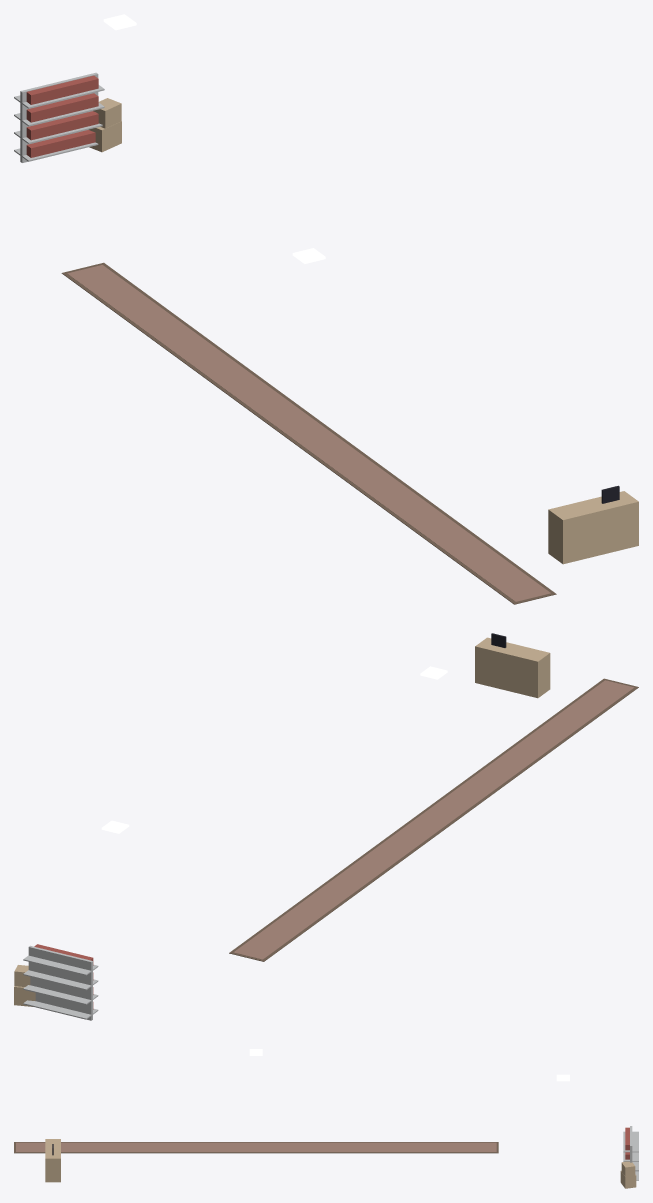
The model's file is fine-s0.glb.
The picture shows the model from 3 angles, top to bottom: view 1: azimuth 30°, elevation 25°; view 2: azimuth 150°, elevation 25°; view 3: azimuth 270°, elevation 25°; orthographic projection. The views are drawn at different scales.
Visible parts, largest first — view 1: soft-s0, shelving.000, shop-counter.000, cardboard-box.000; view 2: soft-s0, shelving.000, shop-counter.000, cardboard-box.000; view 3: soft-s0, shop-counter.000, shelving.000, cardboard-box.000.
Part boxes in pixels (box(x1,y1,x2,y2)): soft-s0: box(61, 262, 556, 604); shelving.000: box(14, 72, 104, 162); shop-counter.000: box(548, 485, 638, 564); cardboard-box.000: box(88, 98, 121, 152); soft-s0: box(229, 678, 638, 961); shelving.000: box(23, 944, 98, 1020); shop-counter.000: box(475, 633, 550, 698); cardboard-box.000: box(14, 965, 35, 1006); soft-s0: box(14, 1142, 498, 1153); shop-counter.000: box(45, 1139, 60, 1182); shelving.000: box(623, 1126, 638, 1180); cardboard-box.000: box(620, 1161, 636, 1188).
Bounding box in the file's own units: 4.23 × 4.05 × 23.95.
